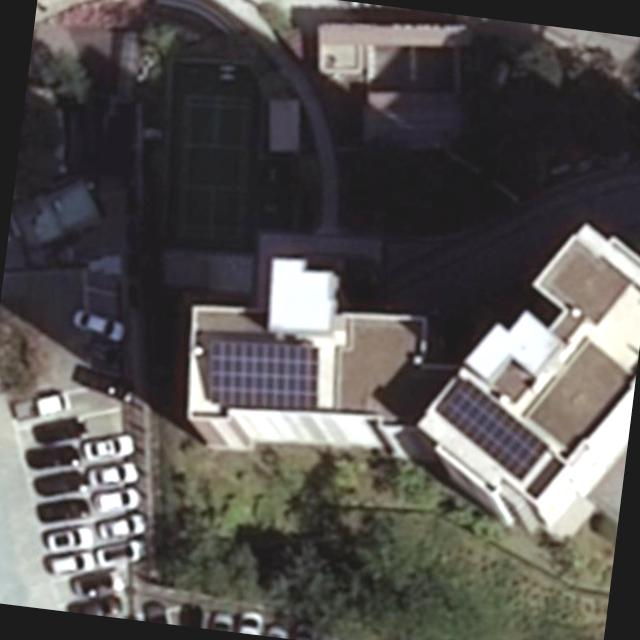solar: (428, 375, 558, 486), (200, 326, 328, 414)
